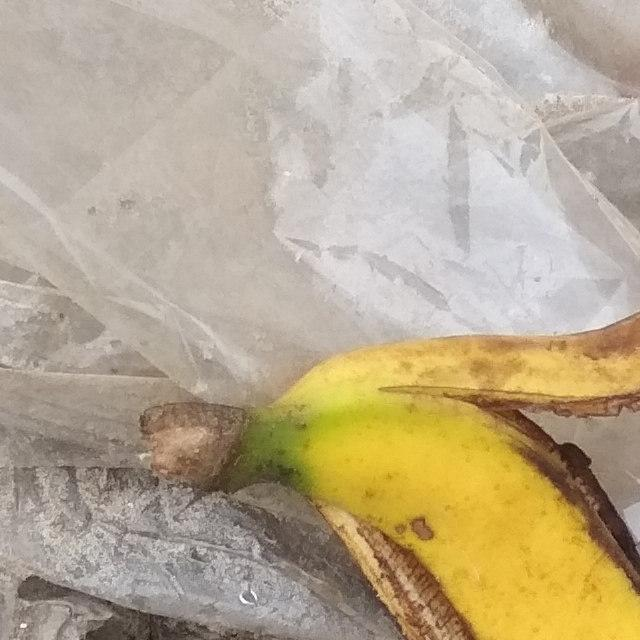food_waste: (46, 0, 640, 640)
plastic: (0, 0, 640, 593)
